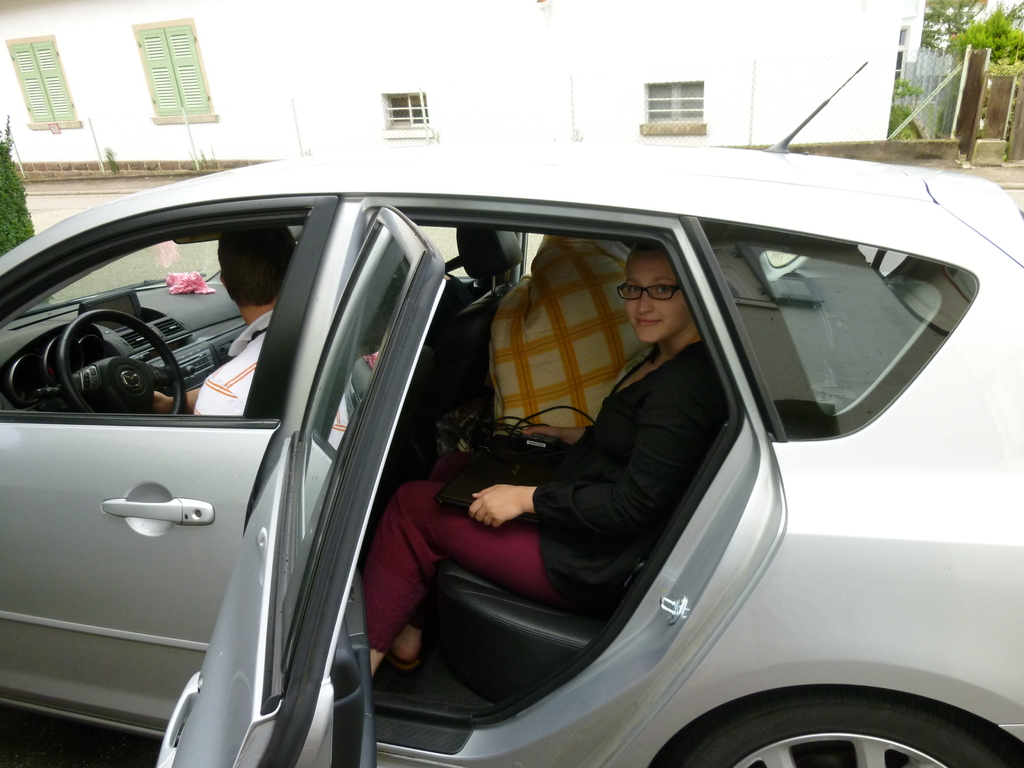Person: (364, 239, 723, 680), (153, 226, 296, 415)
